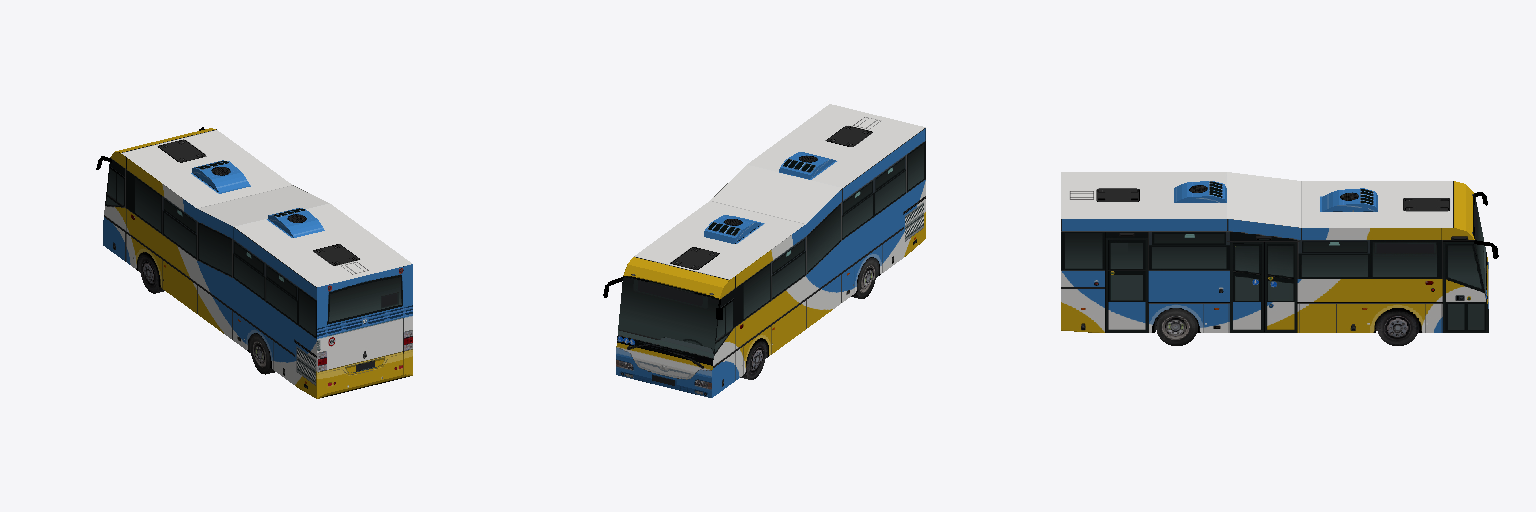
The picture shows the model from 3 angles: view 1: azimuth 30°, elevation 25°; view 2: azimuth 150°, elevation 25°; view 3: azimuth 270°, elevation 25°; orthographic projection.
Visible parts, largest first — view 1: Box009; view 2: Box009; view 3: Box009, Cylinder005.
Part boxes in pixels (x1,y1,x2,y2): Box009: (96,127,412,398); Box009: (603,104,925,397); Box009: (1061,172,1498,332); Cylinder005: (1156,317,1196,345).
Size of the model in its own units: 3.19 by 3.61 by 10.55.
Materials: 1 (1 with a texture image).